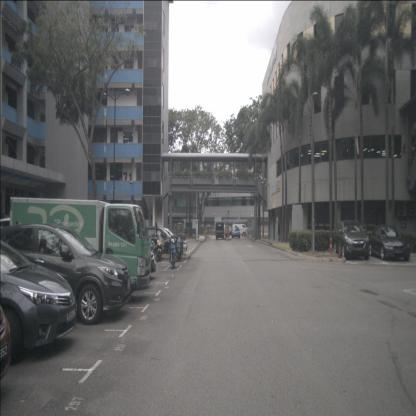movable_object-trafficcone: (337, 240, 343, 259)
vehicle-car: (0, 223, 132, 325), (0, 237, 78, 366), (368, 224, 410, 262), (333, 219, 370, 260), (133, 226, 178, 255), (232, 224, 247, 236), (216, 222, 224, 240), (231, 226, 241, 238)
vehicle-motorcycle: (166, 235, 180, 269), (154, 233, 168, 262), (174, 233, 186, 262)
vehicle-truck: (10, 197, 151, 298)
